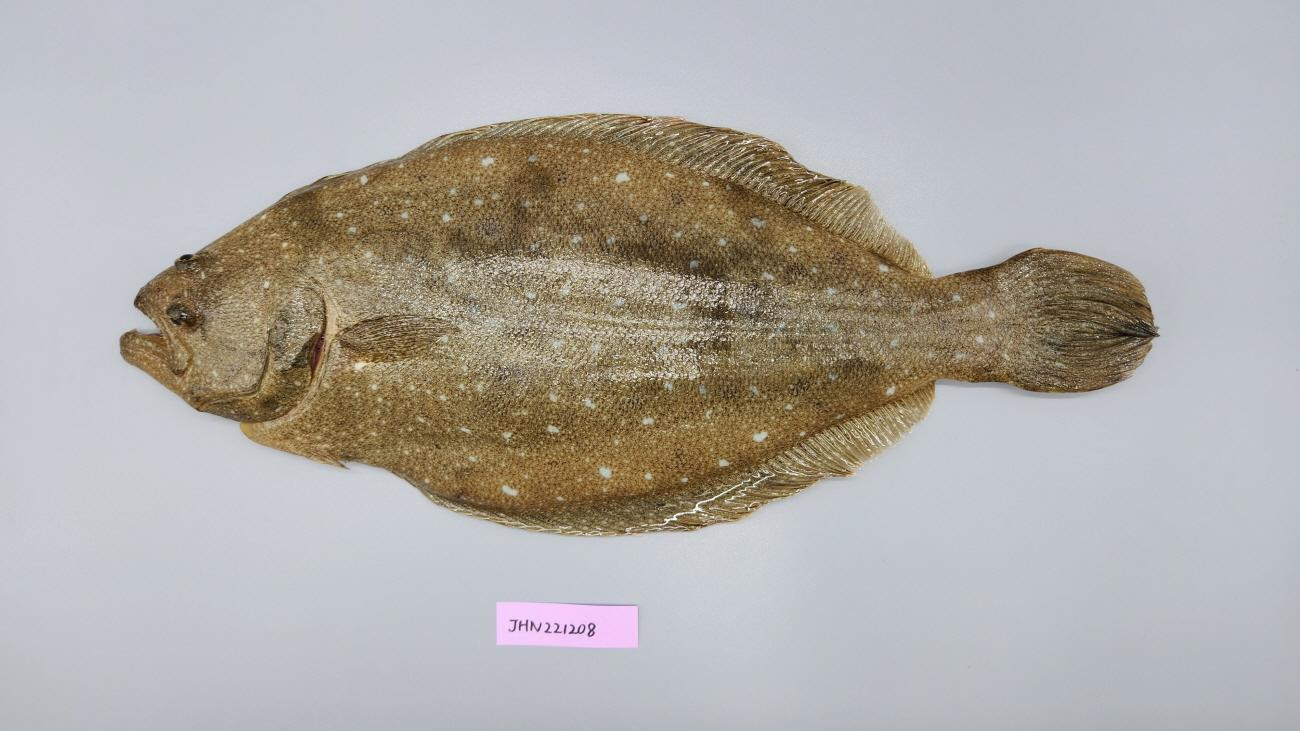POOUN: (117, 113, 1162, 543)
